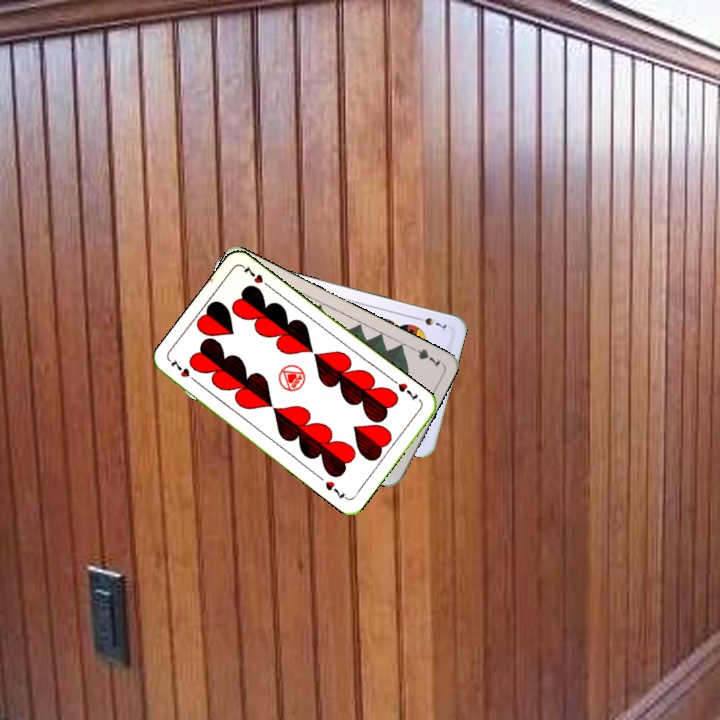G7: (405, 342, 443, 370)
H7: (166, 356, 201, 386), (394, 379, 420, 403)
S7: (411, 313, 449, 334)
